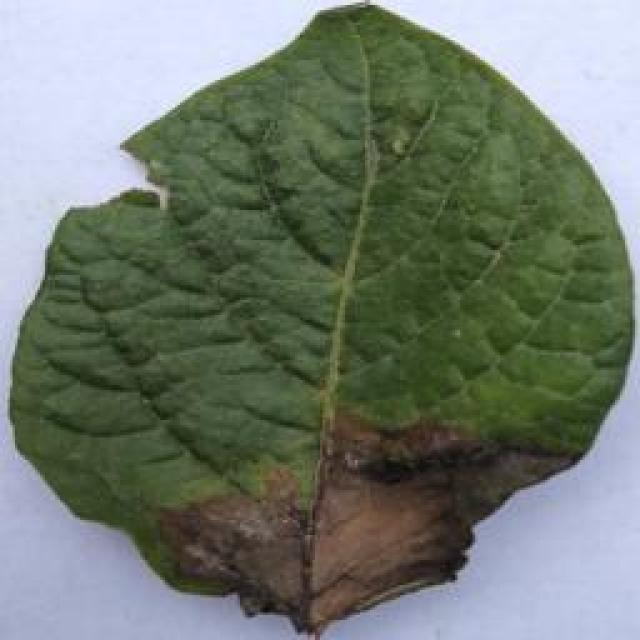Potato_Late_Blight: (5, 5, 635, 631)
